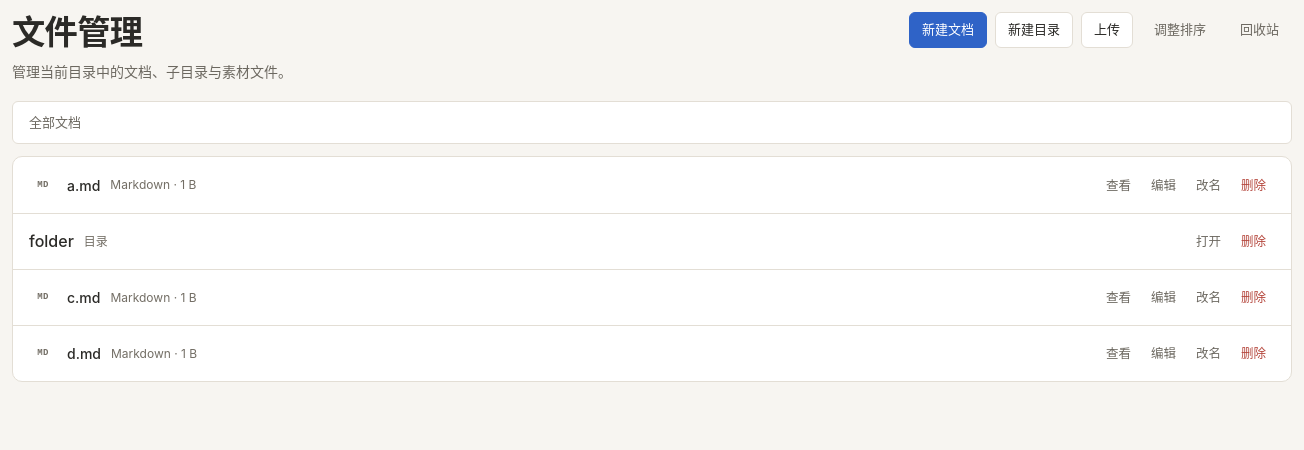
目录拖拽排序 › 为每个条目提供排序手柄，不显示普通操作
What coordinates should you click on to do the following:
click the button with class "order-start"
I would click on:
 (1180, 30)
Its box is [1141,12,1219,48].
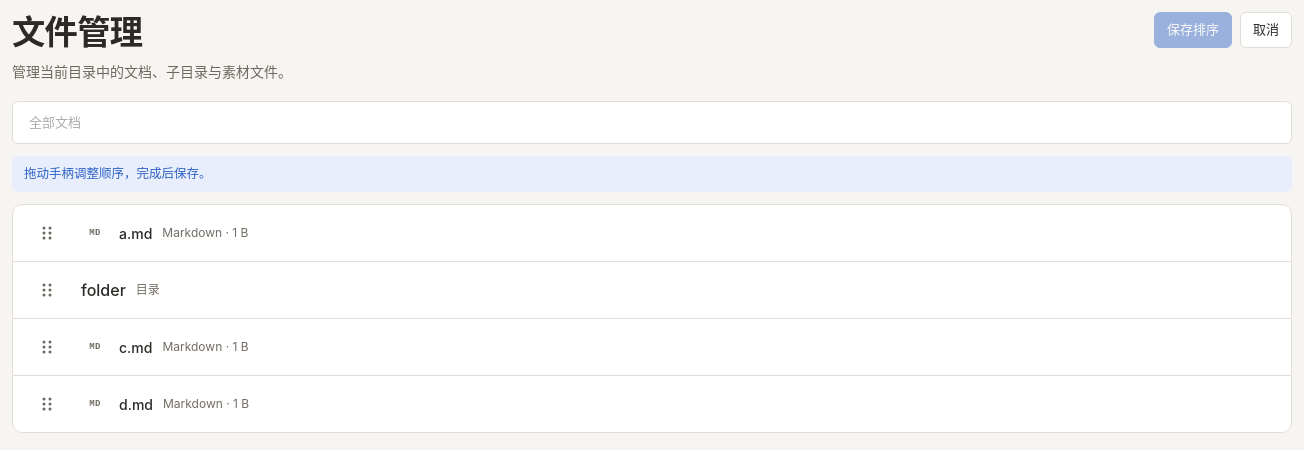
Now the number of buttons with class "order-handle" is 4, box [29,215,65,251]; [29,272,65,308]; [29,329,65,365]; [29,386,65,422]
Now no elements with class "entry-actions" are shown
